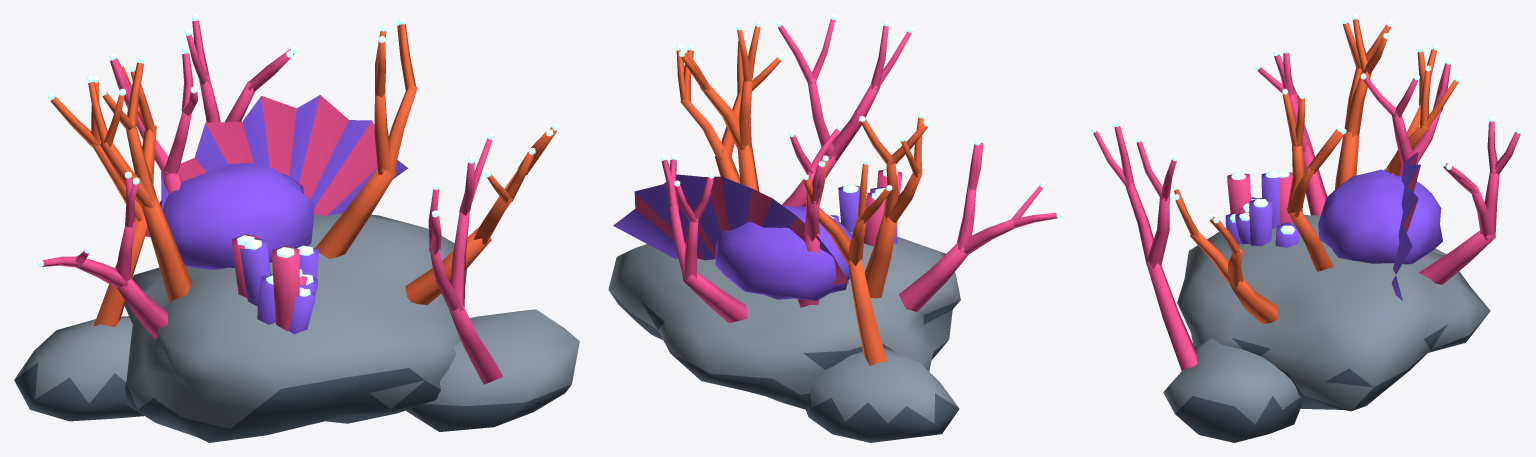
File: coral_rock_a.glb
3 renders of one model, left to right at view 1: azimuth 30°, elevation 25°; view 2: azimuth 150°, elevation 25°; view 3: azimuth 270°, elevation 25°, orthographic. The views are drawn at different scales.
Visible parts, largest first — view 1: coral_rock_a_mesh; view 2: coral_rock_a_mesh; view 3: coral_rock_a_mesh.
Part boxes in pixels (<box>): coral_rock_a_mesh: <box>14,14,579,442</box>; coral_rock_a_mesh: <box>608,14,1062,442</box>; coral_rock_a_mesh: <box>1091,14,1521,442</box>.
Bounding box in the file's own units: 3.44 × 2.44 × 3.09.
